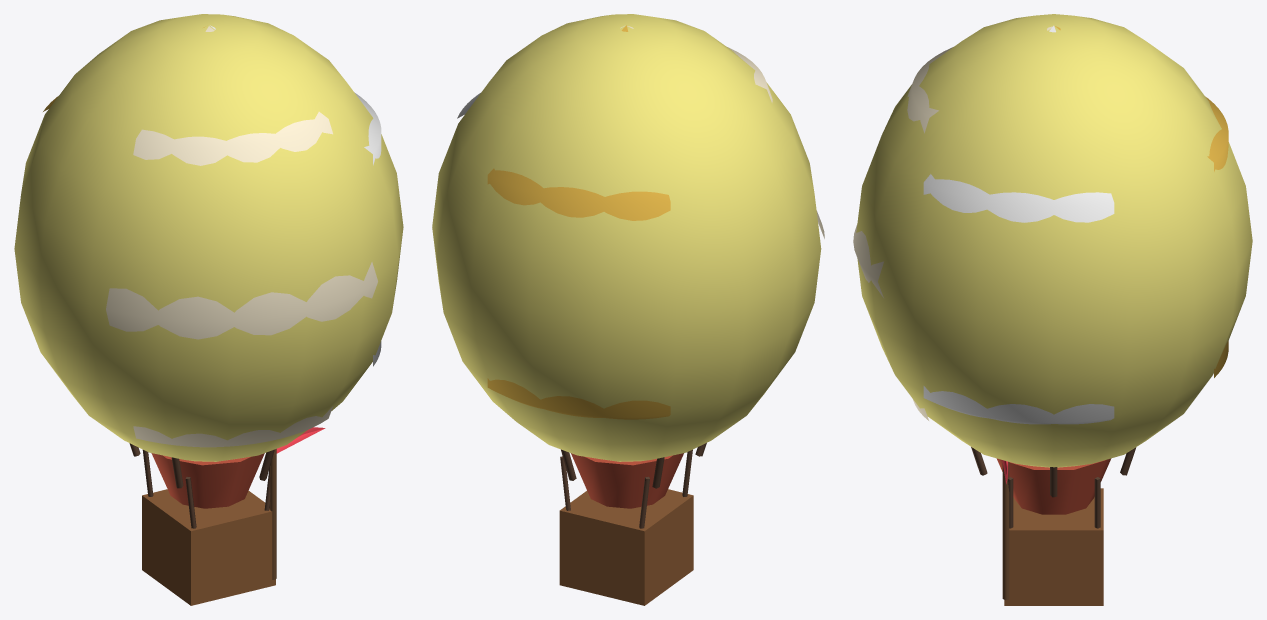
File: balloon.glb
3 views of the same model, side by side, from view 1: azimuth 30°, elevation 25°; view 2: azimuth 150°, elevation 25°; view 3: azimuth 270°, elevation 25° (orthographic).
Bounding box in the file's own units: 2 × 3.11 × 2.01.
